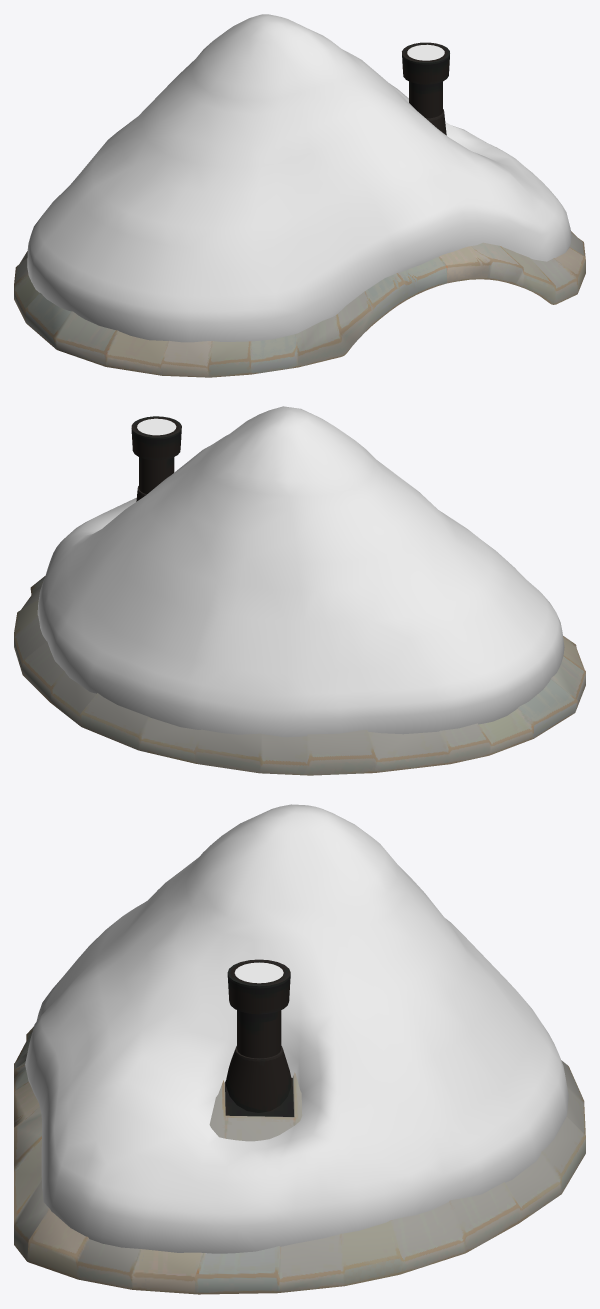
Rendered from roof_nd_wood_i.glb.
The picture shows the model from 3 angles, top to bottom: view 1: azimuth 30°, elevation 25°; view 2: azimuth 150°, elevation 25°; view 3: azimuth 270°, elevation 25°; orthographic projection. The views are drawn at different scales.
Visible parts, largest first — view 1: Snow__mWinterSnow, Base01_low__mRoofA, Chimneyhole__mChimneyhole; view 2: Snow__mWinterSnow, Base01_low__mRoofA, Chimneyhole__mChimneyhole; view 3: Snow__mWinterSnow, Base01_low__mRoofA, Chimneyhole__mChimneyhole.
Part boxes in pixels (box(x1,y1,x2,y2)): Snow__mWinterSnow: box(27, 14, 571, 342); Base01_low__mRoofA: box(14, 42, 585, 377); Chimneyhole__mChimneyhole: box(407, 44, 444, 60); Snow__mWinterSnow: box(37, 406, 564, 737); Base01_low__mRoofA: box(14, 416, 585, 775); Chimneyhole__mChimneyhole: box(137, 418, 176, 435); Snow__mWinterSnow: box(25, 804, 568, 1253); Base01_low__mRoofA: box(14, 959, 585, 1294); Chimneyhole__mChimneyhole: box(234, 962, 283, 983).
Bounding box in the file's own units: 40.14 × 18.83 × 30.29.
Materials: 3 (1 with a texture image).
